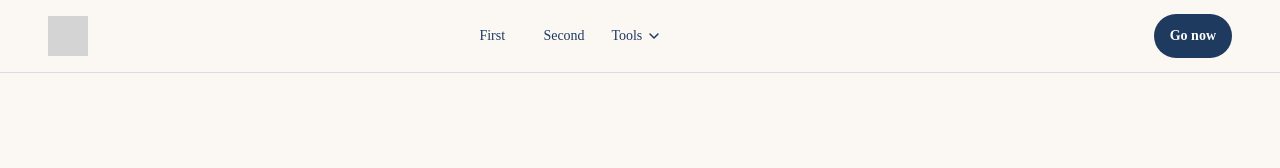
Test: SiteHeader › navGroup › toggles the dropdown, closes on Escape and when a link is chosen
This screenshot has width=1280, height=168.
Click the button "Tools" at [637, 36], box top-left (607, 14), bottom-right (666, 58)
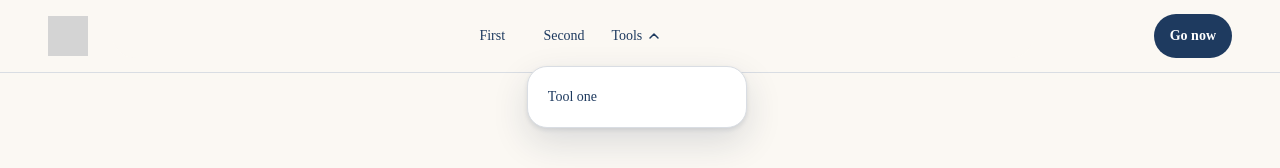
expect the button "Tools" is expanded: met, box top-left (607, 14), bottom-right (666, 58)
Press Escape
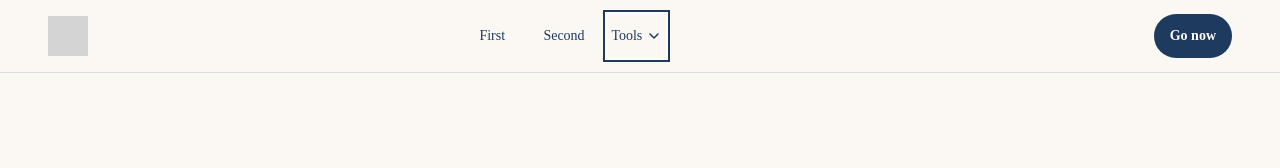
expect the button "Tools" is collapsed: met
Click the button "Tools" at [637, 36], box top-left (607, 14), bottom-right (666, 58)
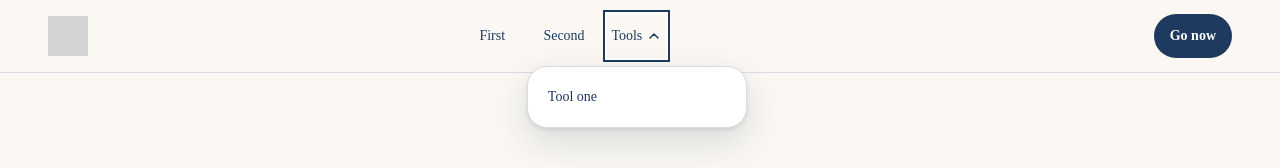
Click the link "Tool one" at [572, 96], box top-left (548, 89), bottom-right (597, 104)
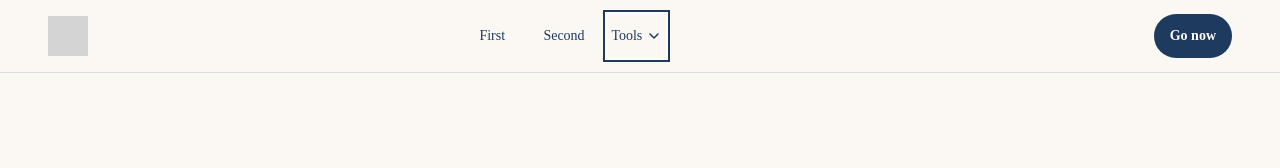
expect the button "Tools" is collapsed: met, box top-left (607, 14), bottom-right (666, 58)
